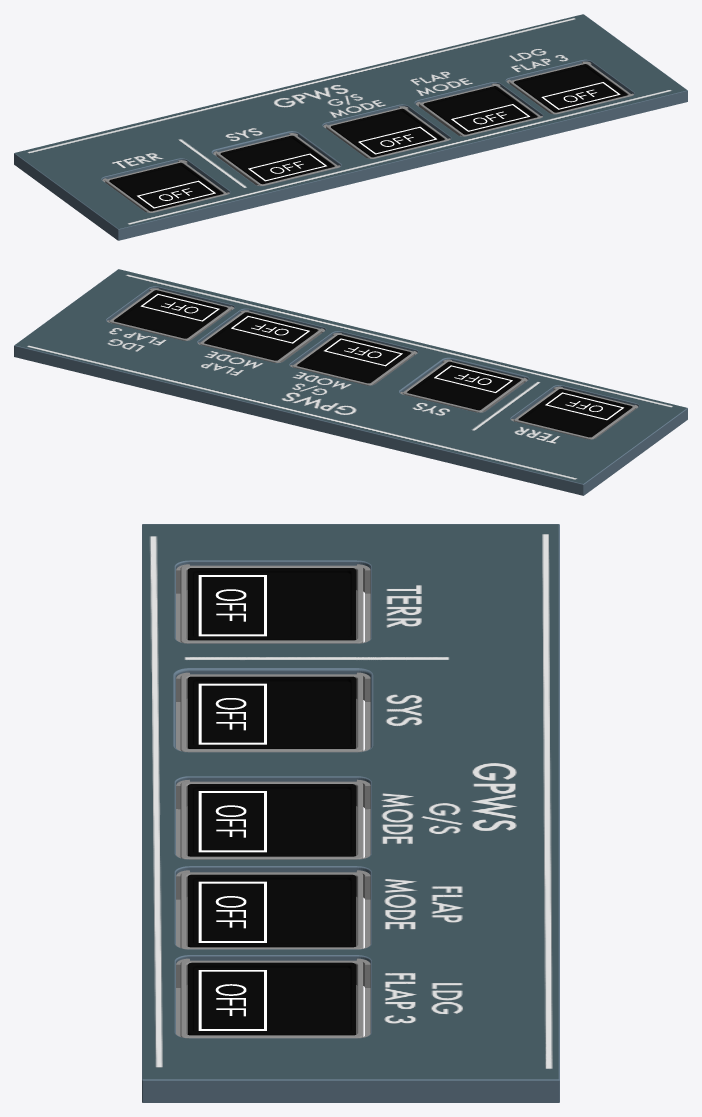
File: gpws_panel.glb
3 renders of one model, top to bottom at view 1: azimuth 30°, elevation 25°; view 2: azimuth 150°, elevation 25°; view 3: azimuth 270°, elevation 25°, orthographic. The views are drawn at different scales.
Parts seen in each view (by area): view 1: Plane, Cube.013, Cube.007, Cube.010, Cube.023, Cube.030, Cube.008, Cube.021, Cube.006, Cube.022, Cube.009, Cube.012 (+4 smaller); view 2: Plane, Cube.030, Cube.010, Cube.013, Cube.023, Cube.007, Cube.008, Cube.021, Cube.024, Cube.011, Cube.035, Cube.006 (+4 smaller); view 3: Plane, Cube.007, Cube.010, Cube.023, Cube.030, Cube.013, Cube.012, Cube.022, Cube.006, Cube.035, Cube.011, Cube.024 (+9 smaller).
Part boxes in pixels (bbox=[...]): Plane: bbox=[14, 14, 687, 240]; Cube.013: bbox=[428, 88, 532, 132]; Cube.007: bbox=[225, 138, 329, 181]; Cube.010: bbox=[335, 111, 439, 154]; Cube.023: bbox=[518, 66, 622, 110]; Cube.030: bbox=[114, 165, 218, 208]; Cube.008: bbox=[216, 134, 338, 185]; Cube.021: bbox=[419, 84, 541, 136]; Cube.006: bbox=[220, 135, 334, 184]; Cube.022: bbox=[514, 64, 627, 112]; Cube.009: bbox=[331, 108, 444, 157]; Cube.012: bbox=[423, 86, 537, 134]; Plane: bbox=[14, 269, 687, 495]; Cube.030: bbox=[523, 391, 627, 435]; Cube.010: bbox=[301, 337, 405, 381]; Cube.013: bbox=[208, 315, 312, 358]; Cube.023: bbox=[118, 293, 222, 336]; Cube.007: bbox=[412, 364, 516, 407]; Cube.008: bbox=[402, 360, 525, 412]; Cube.021: bbox=[199, 310, 322, 362]; Cube.024: bbox=[109, 288, 231, 340]; Cube.011: bbox=[292, 333, 415, 385]; Cube.035: bbox=[514, 387, 636, 439]; Cube.006: bbox=[407, 361, 520, 410]; Plane: bbox=[142, 524, 559, 1102]; Cube.007: bbox=[193, 681, 350, 745]; Cube.010: bbox=[193, 788, 350, 852]; Cube.023: bbox=[193, 967, 350, 1031]; Cube.030: bbox=[193, 572, 350, 636]; Cube.013: bbox=[193, 879, 350, 943]; Cube.012: bbox=[187, 874, 356, 947]; Cube.022: bbox=[187, 962, 356, 1035]; Cube.006: bbox=[187, 676, 356, 748]; Cube.035: bbox=[180, 565, 363, 643]; Cube.011: bbox=[180, 781, 363, 859]; Cube.024: bbox=[180, 960, 363, 1038].
Size of the model in its own units: 2.37 by 0.0589 by 0.7541.
Materials: 5 (1 with a texture image).
